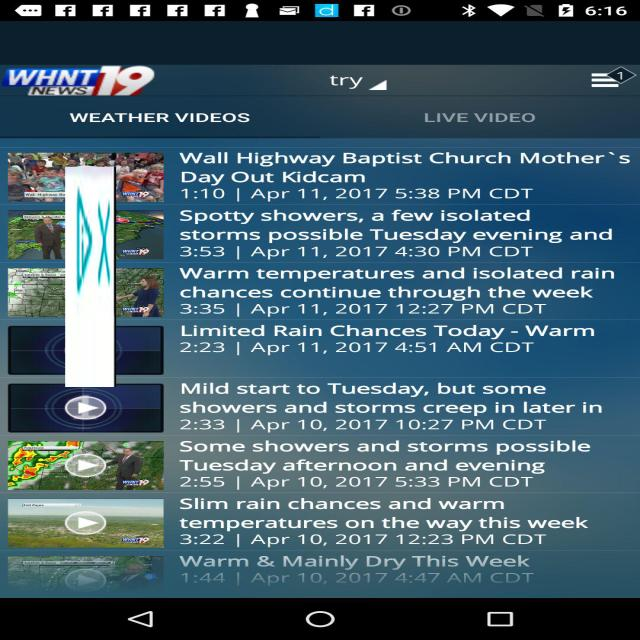sneaking: (65, 167, 116, 387)
